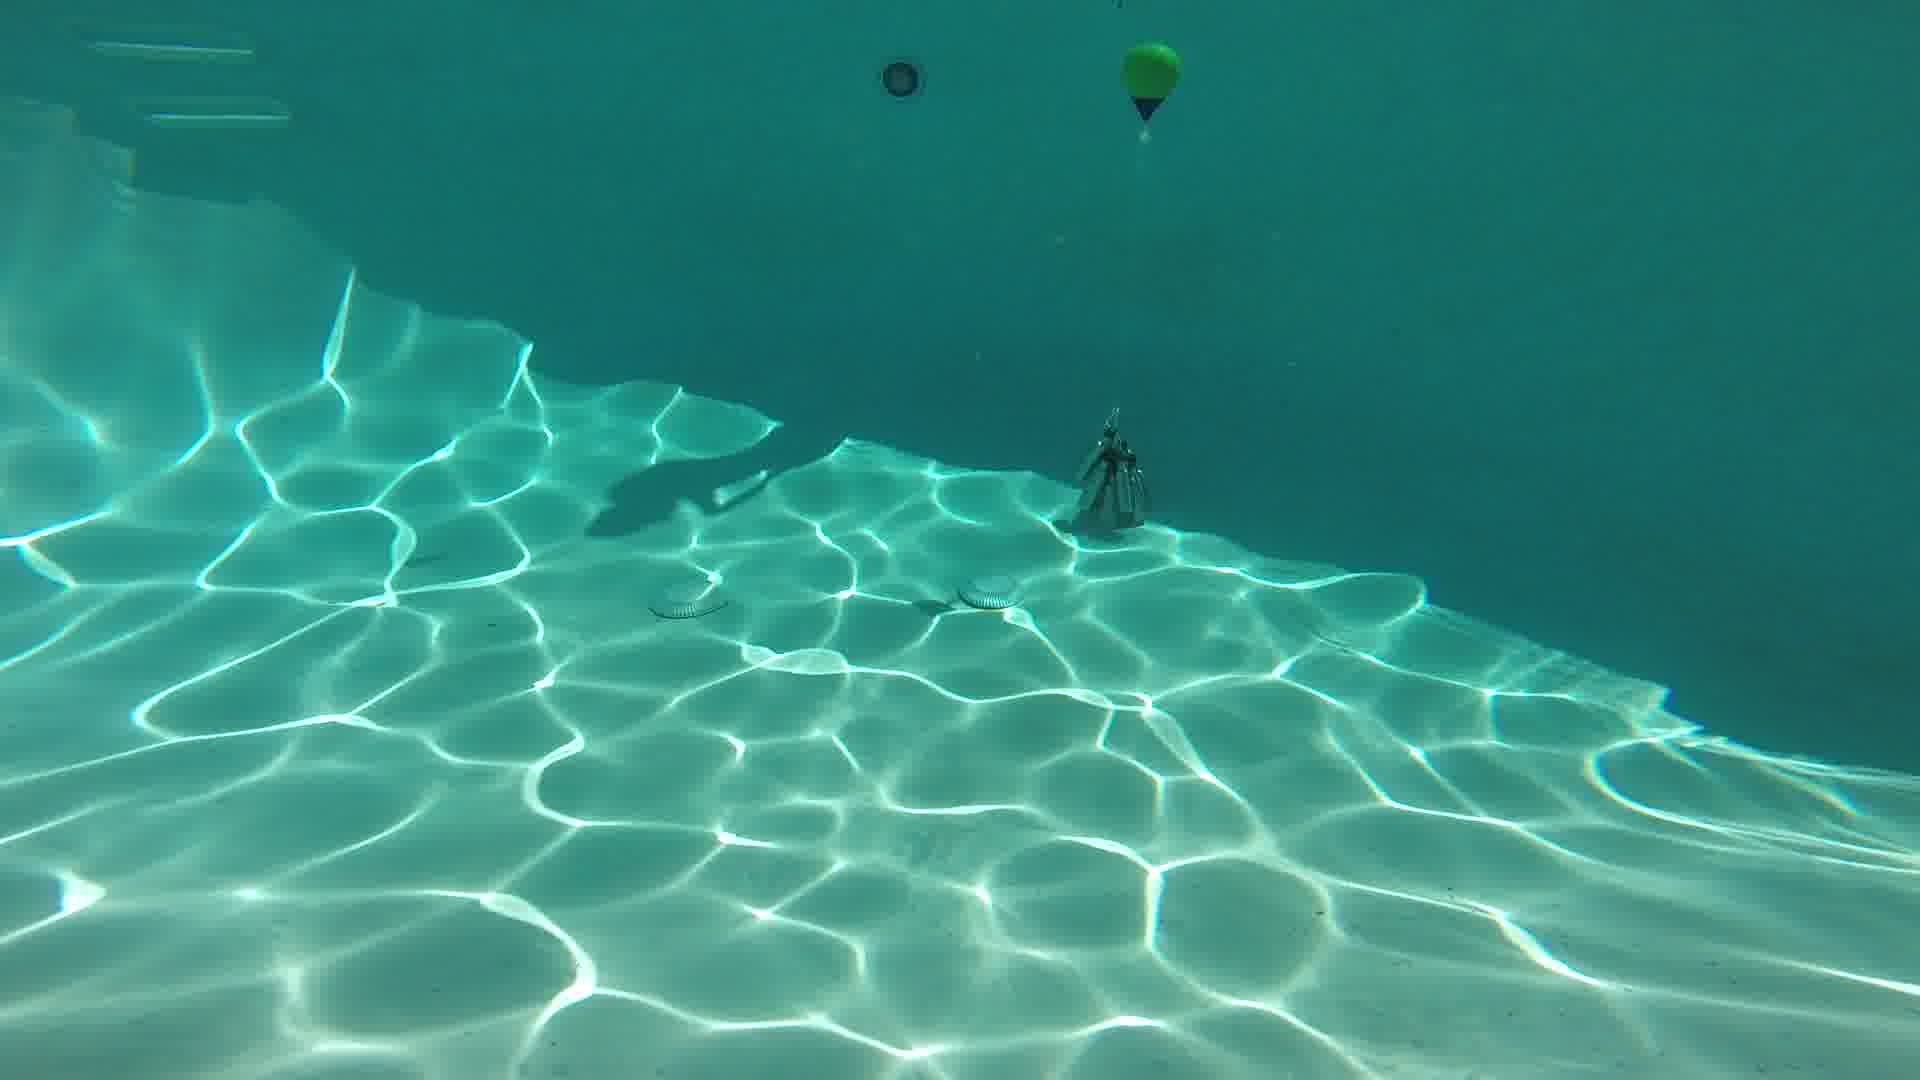yellow_buoy: (1121, 44, 1180, 123)
